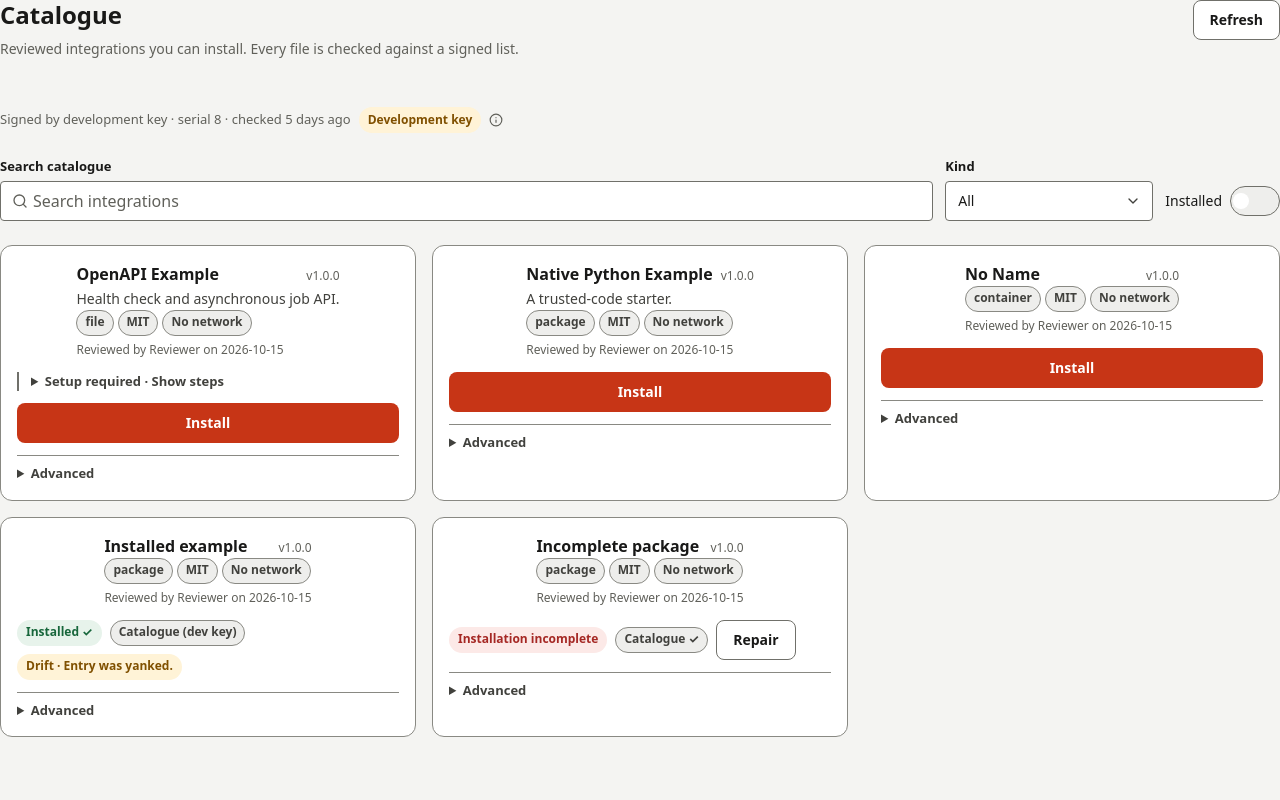
Scenario: CataloguePanel › shows the description as plain text in details and a fallback when absent
The width and height of the screenshot is (1280, 800).
Click the button that starts with "OpenAPI Example": point(208, 310) [17,262,399,360]
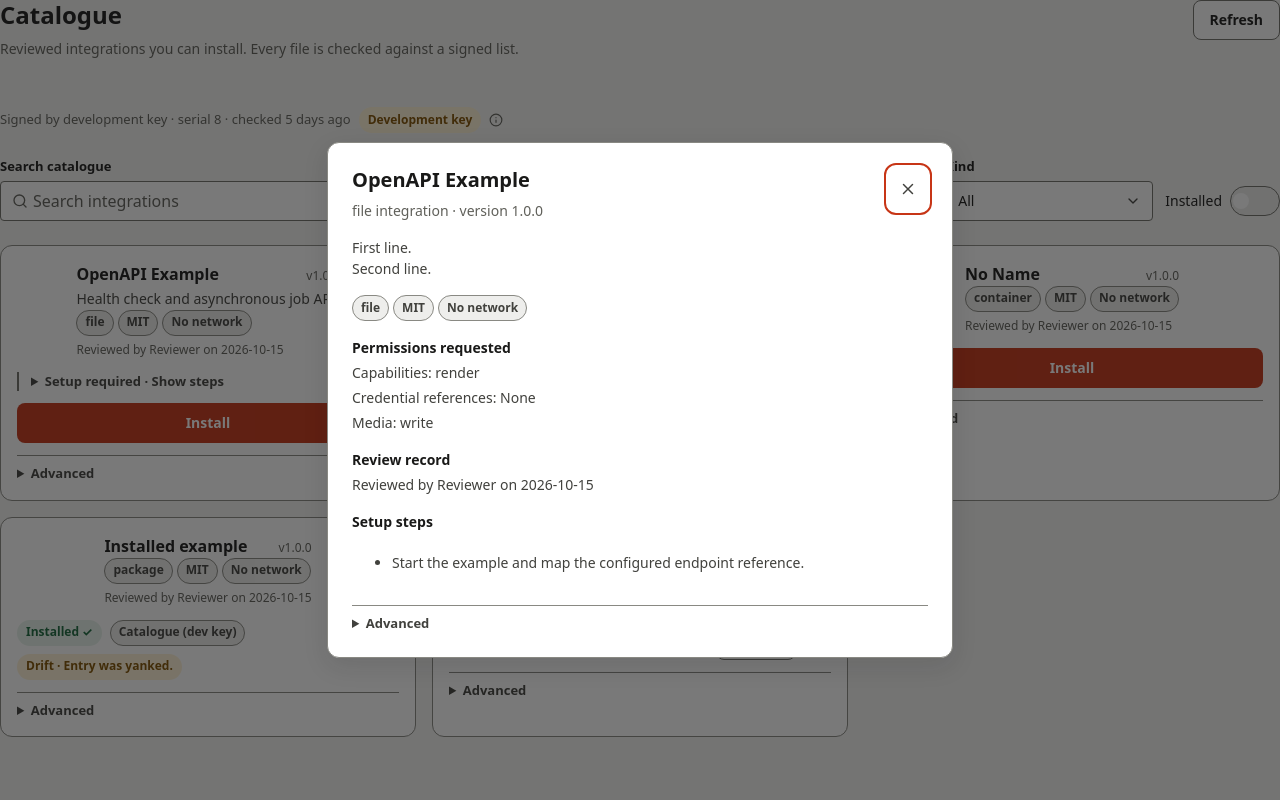
Click the button named "Close dialog": point(908, 189) [888,167,928,211]
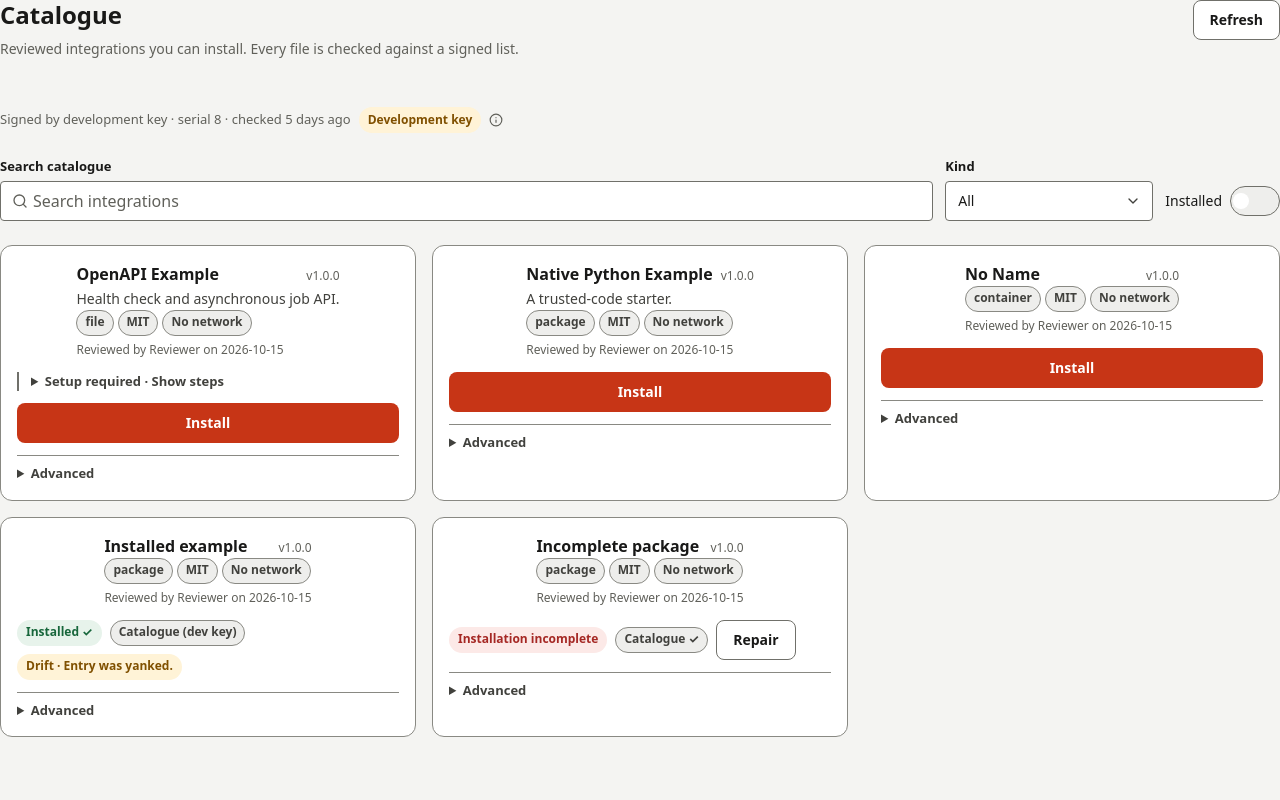
Click the button that starts with "No Name": point(1072, 298) [881,262,1263,336]
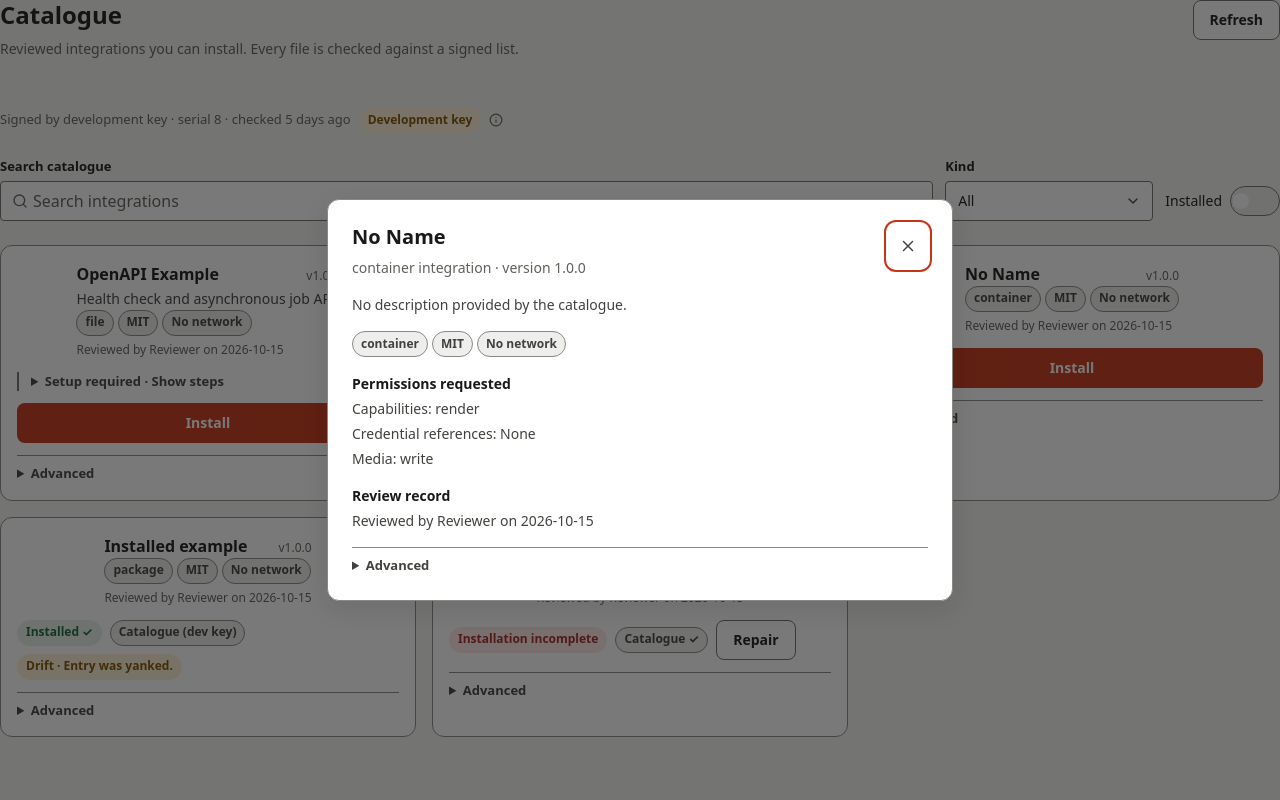
Check: the text "No description provided by the catalogue." is shown, box [352,295,627,314]
